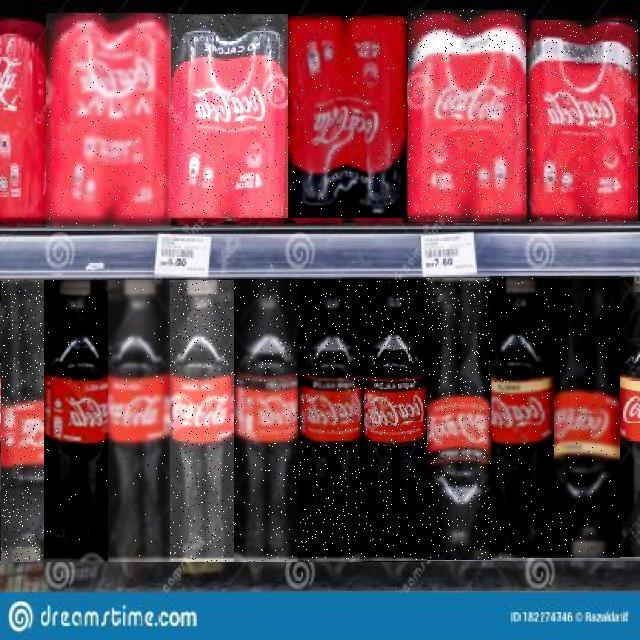Drinks: (46, 13, 171, 229), (408, 10, 526, 222), (169, 14, 288, 218), (288, 16, 407, 218), (527, 20, 638, 222), (234, 280, 300, 562), (298, 280, 364, 562), (554, 277, 620, 559), (169, 280, 234, 562), (489, 276, 554, 558), (426, 278, 491, 560), (362, 280, 427, 562), (44, 281, 108, 563), (107, 280, 170, 562), (1, 280, 44, 562)
